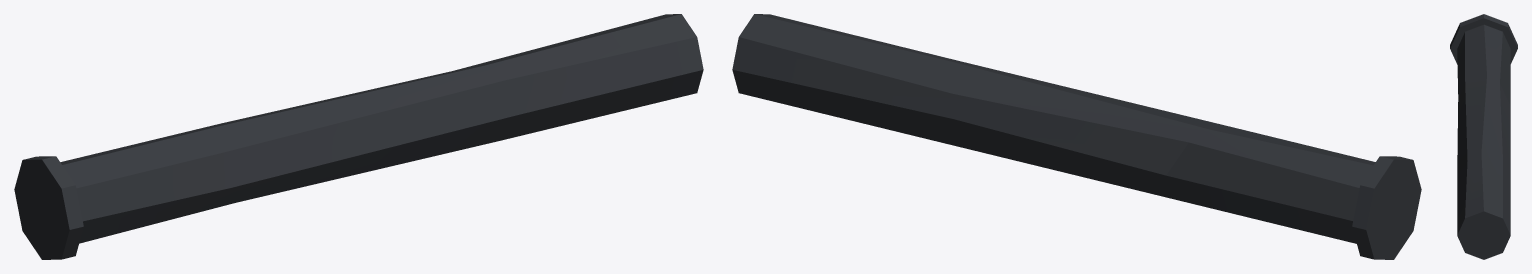
Rendered from SM_Gen_Bld_Pipe_Straight_01.obj.
3 views of the same model, side by side, from view 1: azimuth 30°, elevation 25°; view 2: azimuth 150°, elevation 25°; view 3: azimuth 270°, elevation 25° (orthographic). The views are drawn at different scales.
Parts seen in each view (by area): view 1: SM_Gen_Bld_Pipe_Straight_01_0; view 2: SM_Gen_Bld_Pipe_Straight_01_0; view 3: SM_Gen_Bld_Pipe_Straight_01_0.
Part boxes in pixels (left/top/right/bottom): SM_Gen_Bld_Pipe_Straight_01_0: left=14, top=14, right=703, bottom=259; SM_Gen_Bld_Pipe_Straight_01_0: left=732, top=14, right=1421, bottom=259; SM_Gen_Bld_Pipe_Straight_01_0: left=1450, top=14, right=1517, bottom=259.
Bounding box in the file's own units: 2.53 × 0.379 × 0.379.
Materials: 1 (1 with a texture image).
